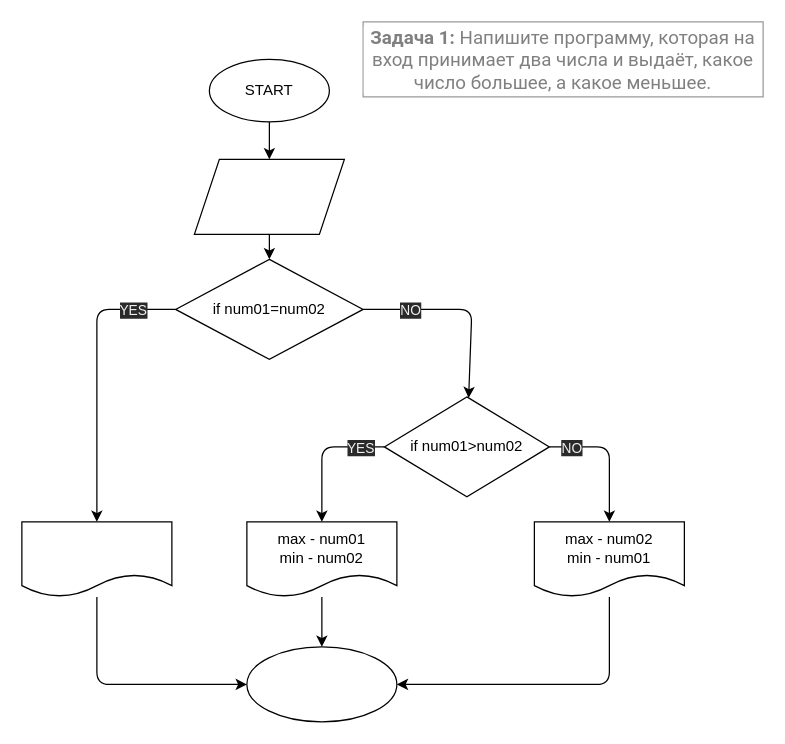
The diagram is 785 pixels wide and 744 high, and some of its shapes have lost their labels. The shapes that lost their labels are listed below. From the top down, each one's centre as x and y in pixels, then its label:
pixel 268 196: num01 num02
pixel 96 559: num01=num02
pixel 321 684: END
